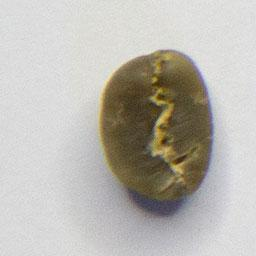premium: (97, 45, 216, 203)
